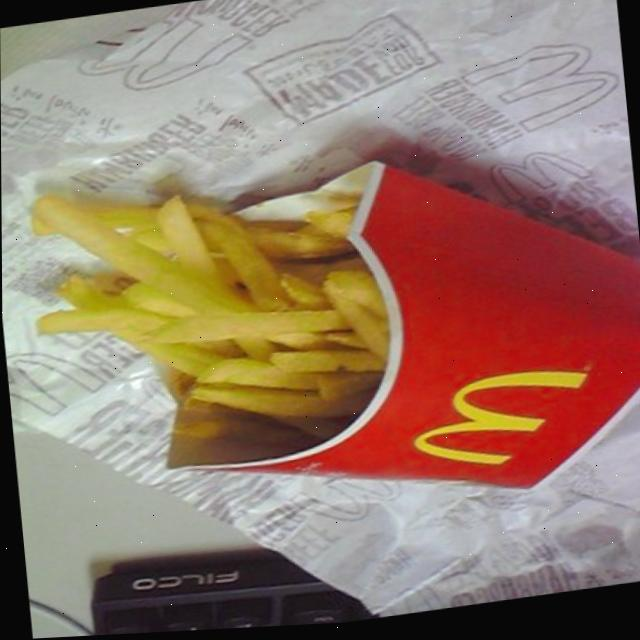炸货点心: (0, 32, 640, 554)
